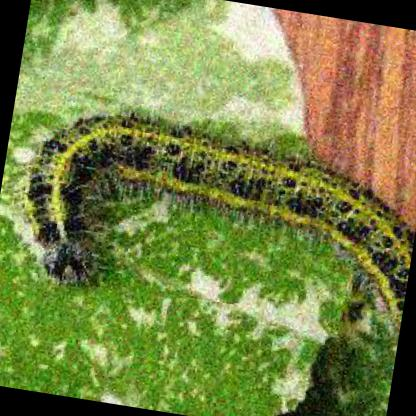pieris: (29, 117, 414, 325)
